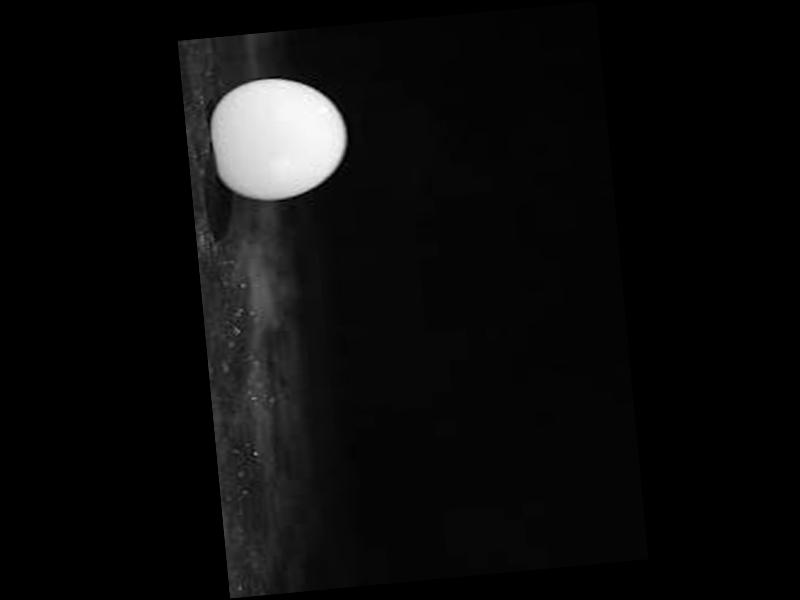Eggs: (209, 72, 352, 205)
